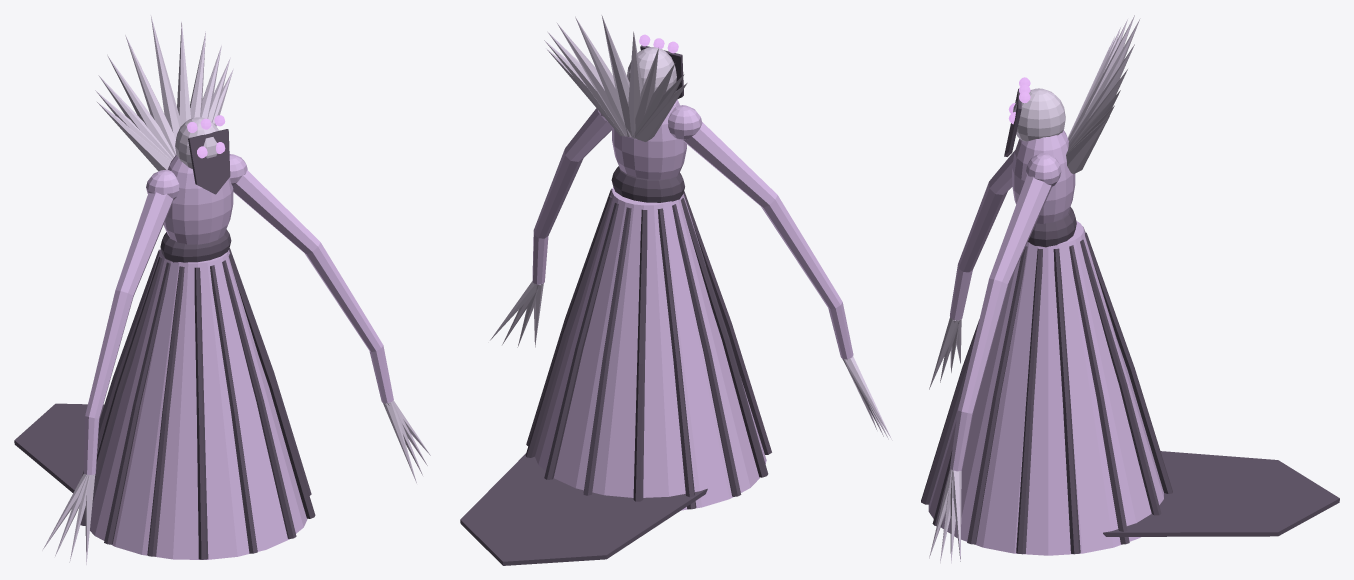
File: pale_duchess.glb
The picture shows the model from 3 angles, left to right: view 1: azimuth 30°, elevation 25°; view 2: azimuth 150°, elevation 25°; view 3: azimuth 270°, elevation 25°; orthographic projection. The views are drawn at different scales.
Visible parts, largest first — view 1: pale_duchess_body, pale_duchess_dark, pale_duchess_bone; view 2: pale_duchess_body, pale_duchess_dark, pale_duchess_bone; view 3: pale_duchess_body, pale_duchess_dark, pale_duchess_bone.
Part boxes in pixels (bbox=[...]): pale_duchess_body: bbox=[84, 154, 393, 559]; pale_duchess_dark: bbox=[14, 129, 315, 559]; pale_duchess_bone: bbox=[42, 16, 430, 564]; pale_duchess_body: bbox=[532, 99, 853, 510]; pale_duchess_dark: bbox=[460, 45, 771, 565]; pale_duchess_bone: bbox=[490, 15, 892, 440]; pale_duchess_body: bbox=[928, 130, 1163, 555]; pale_duchess_dark: bbox=[921, 88, 1339, 554]; pale_duchess_bone: bbox=[929, 15, 1140, 563].
Size of the model in its own units: 4.03 by 4.6 by 3.58.
